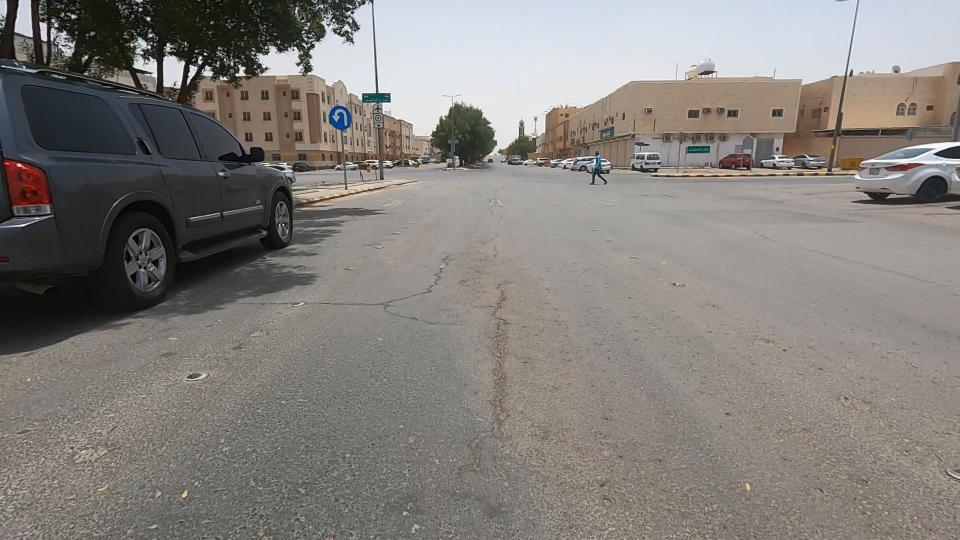POTHOLES: (376, 167, 605, 511)
